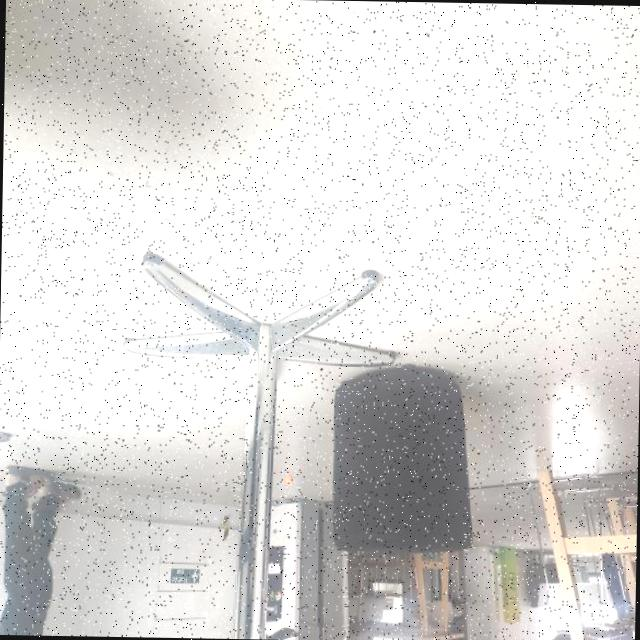ping-pong-ball: (285, 473, 293, 486)
